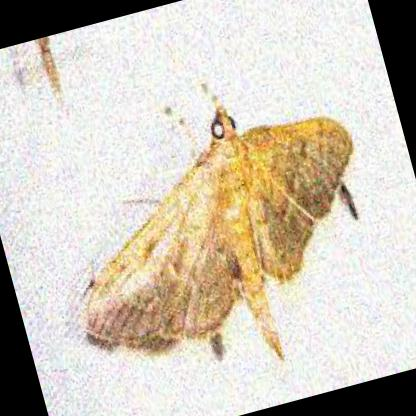Leaf Webber: (80, 104, 356, 354)
